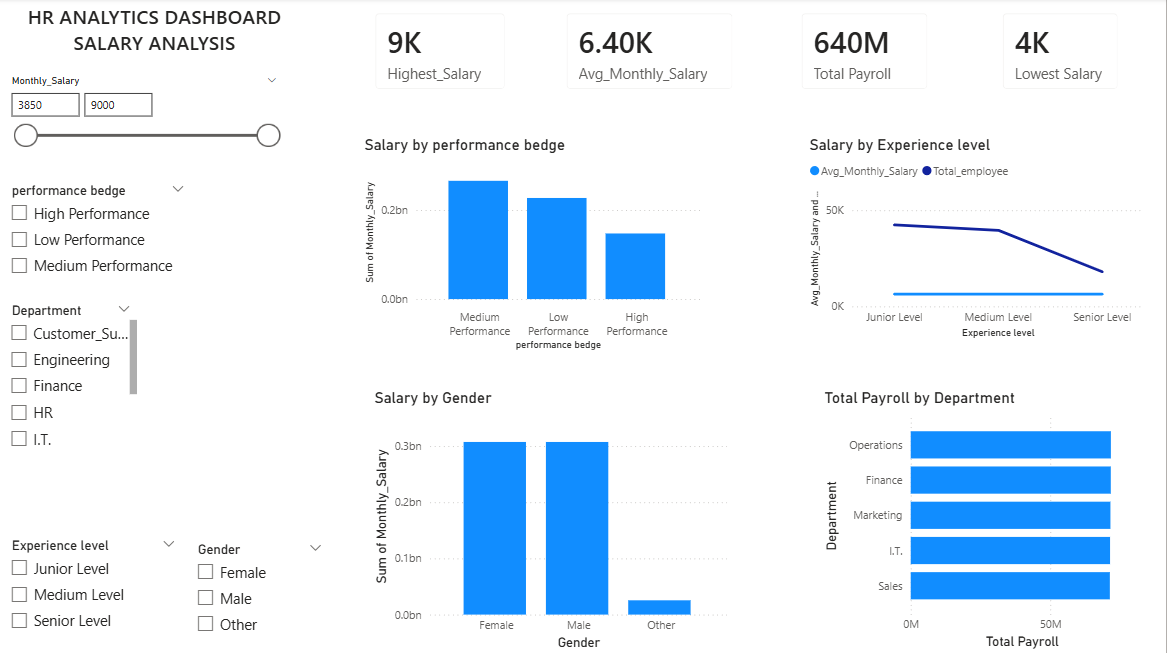

Layout of this report page (visuals, bound fields, positions):
{"tool":"powerbi","page":{"name":"Department & Performance Analysis","canvas":[1280,720],"ordinal":1},"visuals":[{"type":"textbox","box":[0,0,1280.3,67.2],"z":0},{"type":"cardVisual","fields":{"Data":["Measure Table.Avg Department Salary"]},"box":[0,175,320,155],"z":1000},{"type":"cardVisual","fields":{"Data":["Measure Table.Avg Performance Department"]},"box":[320,175,320,155],"z":2000},{"type":"cardVisual","fields":{"Data":["Measure Table.Avg Project Handle"]},"box":[640,175,326.7,155],"z":3000},{"type":"cardVisual","fields":{"Data":["Measure Table.Avg TeamSize"]},"box":[966.7,175,313.3,155],"z":4000},{"type":"clusteredColumnChart","title":"Project Handle By Department","fields":{"Category":["Clean data.Department"],"Y":["Sum(Clean data.Projects_Handled)"]},"box":[1.7,328.3,421.7,195],"z":5000},{"type":"areaChart","title":"Avg Performance By Job Role","fields":{"Category":["Clean data.Job_Title"],"Y":["Avg(Clean data.Performance_Score)"]},"box":[0,523.3,421.7,196.7],"z":6000},{"type":"clusteredColumnChart","title":"Performance Bedge Rank % By Department","fields":{"Y":["CountNonNull(Clean data.Rank_By_Performance)"],"Category":["Clean data.Department"]},"box":[820,328.3,460,195],"z":7000},{"type":"lineChart","title":"Project Handle By Age Group","fields":{"Y":["Sum(Clean data.Projects_Handled)"],"Category":["Clean data.Job_Title"]},"box":[820,521.7,460,196.7],"z":8000},{"type":"clusteredBarChart","title":"Remote Work Frequency By Age ","fields":{"Category":["Clean data.Age_group"],"Y":["CountNonNull(Clean data.Remote_Work_Frequency)"]},"box":[421.7,328.3,398.3,193.3],"z":9000},{"type":"clusteredColumnChart","title":"Working Hours By Department","fields":{"Category":["Clean data.Department"],"Y":["CountNonNull(Clean data.Work_Hours_Per_Week)"]},"box":[423.3,523.3,396.7,196.7],"z":10000},{"type":"slicer","fields":{"Values":["Clean data.Department"]},"box":[0,90.8,281.1,74.6],"z":11000},{"type":"slicer","fields":{"Values":["Clean data.Job_Title"]},"box":[502.6,100.8,273.1,75.5],"z":12000},{"type":"slicer","fields":{"Values":["Clean data.Age_group"]},"box":[988.9,89.6,291.1,74.6],"z":13000}]}

Visuals, with their boxes in screenshot pixels (x1, y1, x2, y2), scaled from the page's 1280x720 canvas onto the 1167x653 screenshot:
textbox: [left=0, top=0, right=1166, bottom=61]
cardVisual - Measure Table.Avg Department Salary: [left=0, top=159, right=292, bottom=299]
cardVisual - Measure Table.Avg Performance Department: [left=292, top=159, right=584, bottom=299]
cardVisual - Measure Table.Avg Project Handle: [left=584, top=159, right=881, bottom=299]
cardVisual - Measure Table.Avg TeamSize: [left=881, top=159, right=1166, bottom=299]
"Project Handle By Department" clusteredColumnChart: [left=2, top=298, right=386, bottom=475]
"Avg Performance By Job Role" areaChart: [left=0, top=475, right=384, bottom=652]
"Performance Bedge Rank % By Department" clusteredColumnChart: [left=748, top=298, right=1166, bottom=475]
"Project Handle By Age Group" lineChart: [left=748, top=473, right=1166, bottom=652]
"Remote Work Frequency By Age " clusteredBarChart: [left=384, top=298, right=748, bottom=473]
"Working Hours By Department" clusteredColumnChart: [left=386, top=475, right=748, bottom=652]
slicer - Clean data.Department: [left=0, top=82, right=256, bottom=150]
slicer - Clean data.Job_Title: [left=458, top=91, right=707, bottom=160]
slicer - Clean data.Age_group: [left=902, top=81, right=1166, bottom=149]
